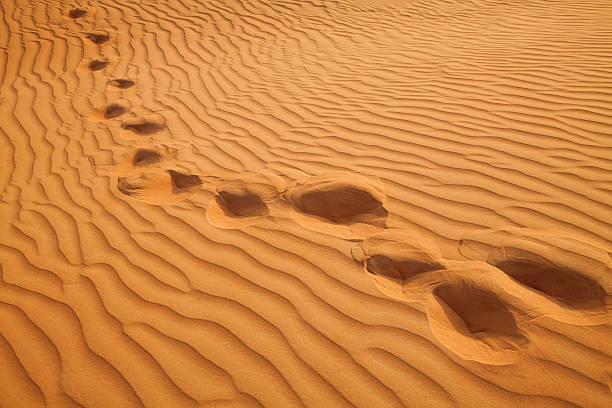human_foot_print: (352, 229, 529, 364), (460, 227, 611, 324), (424, 261, 529, 364), (284, 172, 387, 238), (351, 229, 443, 300), (114, 148, 202, 203), (206, 171, 284, 228), (89, 102, 127, 121), (65, 7, 89, 19), (107, 78, 134, 88), (85, 33, 109, 44)
